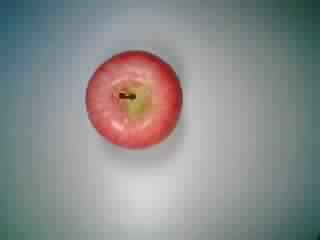apple: (82, 50, 187, 152)
